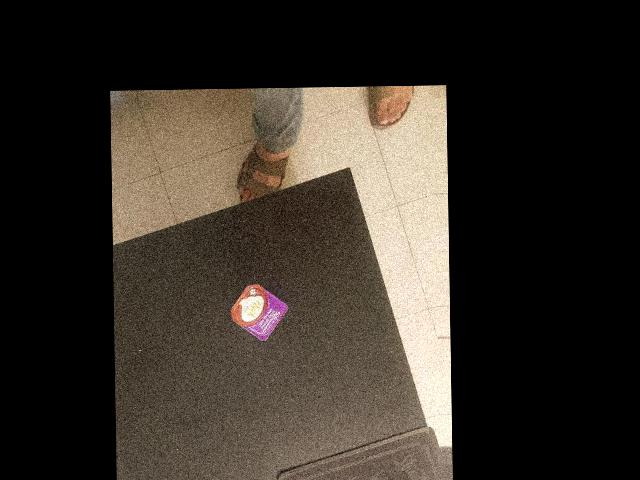milky: (180, 343, 253, 413)
